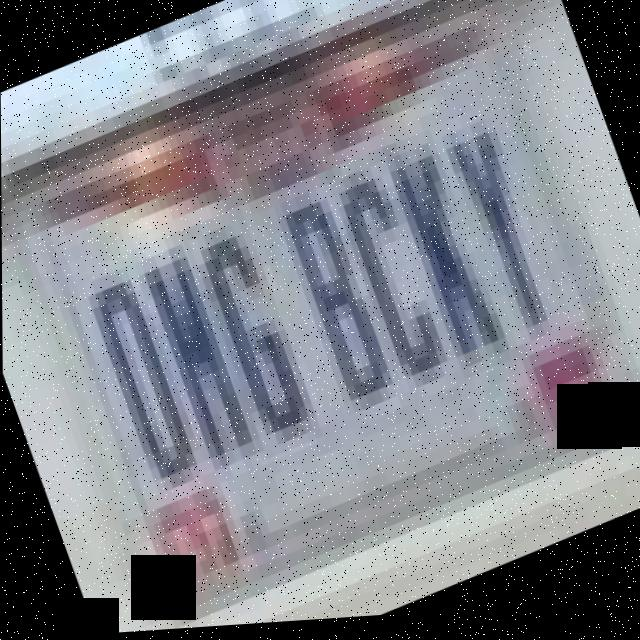B: (268, 178, 403, 427)
C: (331, 160, 459, 410)
G: (179, 205, 322, 469)
H: (129, 228, 256, 476)
K: (381, 130, 511, 389)
O: (75, 253, 211, 498)
Y: (432, 101, 574, 371)
